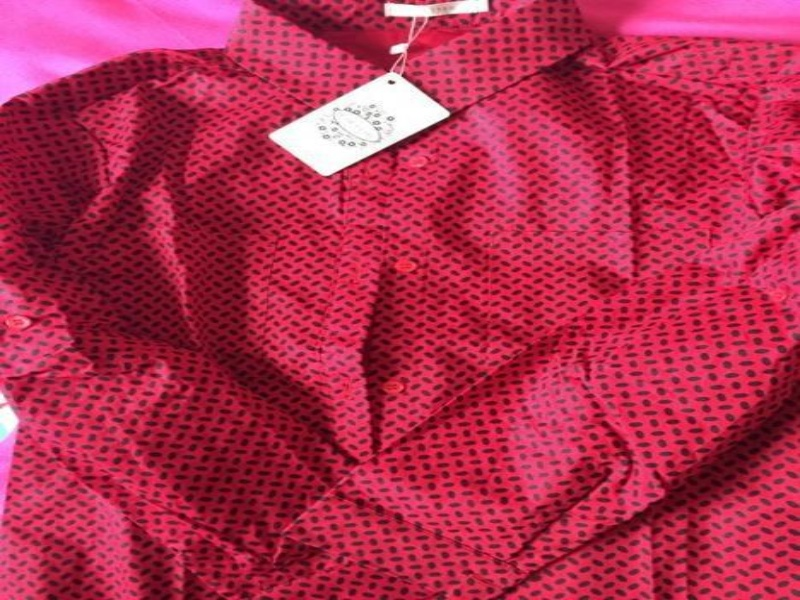long_sleeved_shirt: (0, 1, 798, 598)
